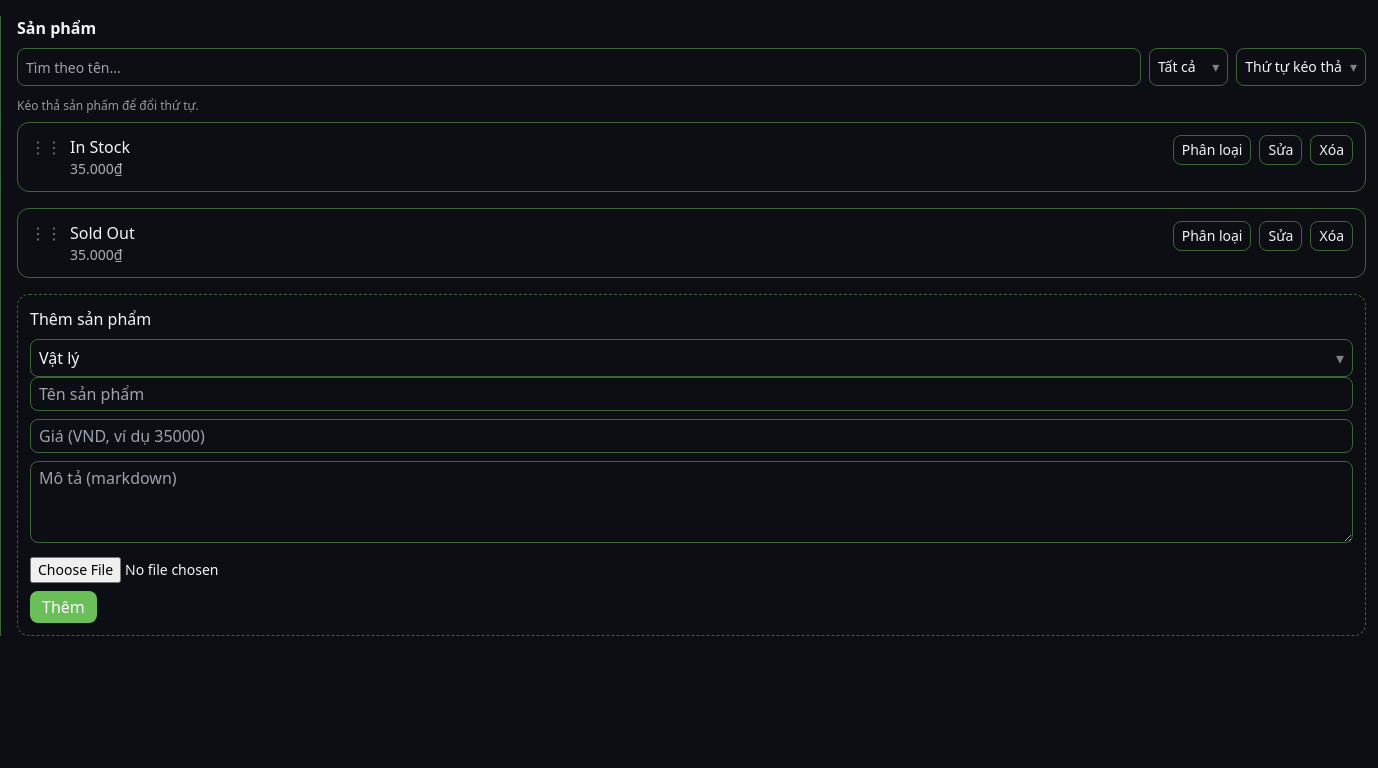
Test: AdminProducts - search, filter, sort › filters by stock status
Click the button with aria-label "Tất cả": (1189, 67) x1=1149 y1=48 x2=1228 y2=86
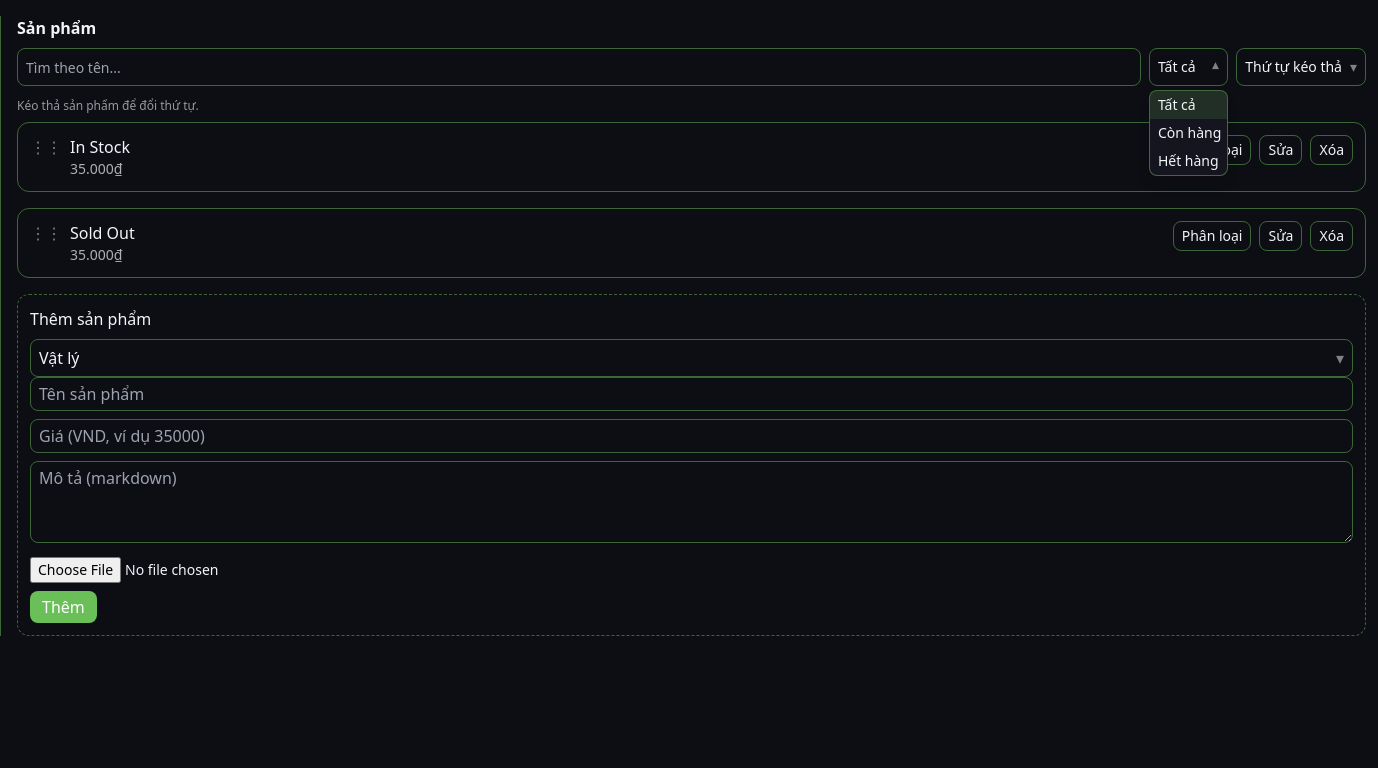
Click the button "Hết hàng": (1189, 161) x1=1150 y1=147 x2=1227 y2=175
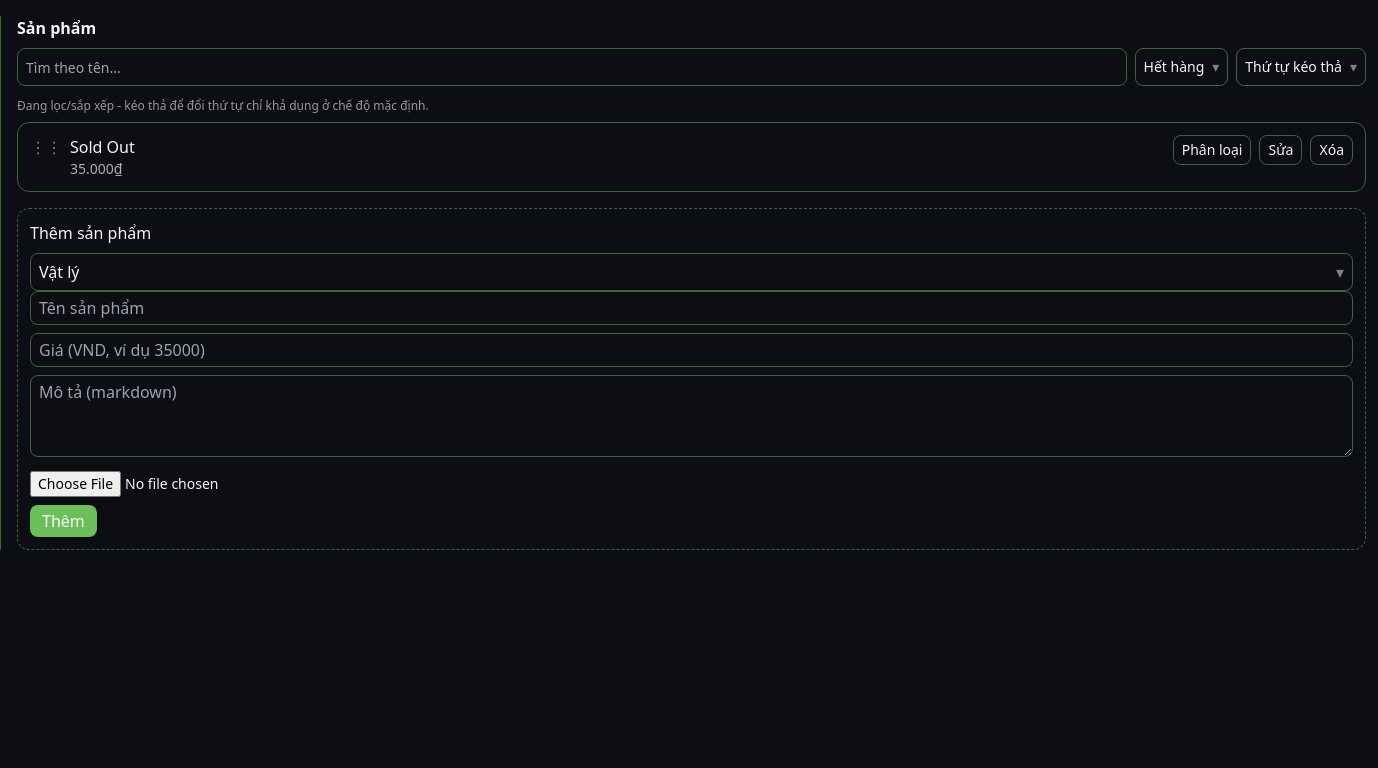
Expected: the text "Sold Out" is shown, x1=70 y1=135 x2=135 y2=159
Expected: the text "In Stock" is gone
